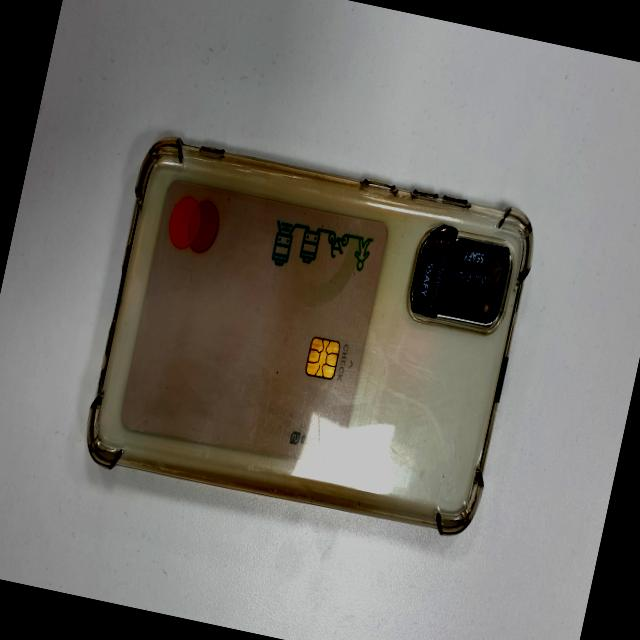phone: (77, 128, 540, 540)
removed_sticker: (446, 236, 509, 296)
sticker: (410, 224, 454, 316)
